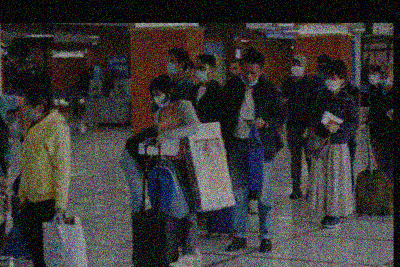mask_weared_incorrect: (242, 66, 259, 88), (379, 66, 393, 86)
with_mask: (21, 100, 36, 121), (153, 88, 169, 105), (195, 62, 209, 81), (326, 73, 339, 92), (167, 55, 179, 74), (291, 60, 304, 76), (368, 69, 379, 85)
without_mask: (230, 63, 241, 80)
